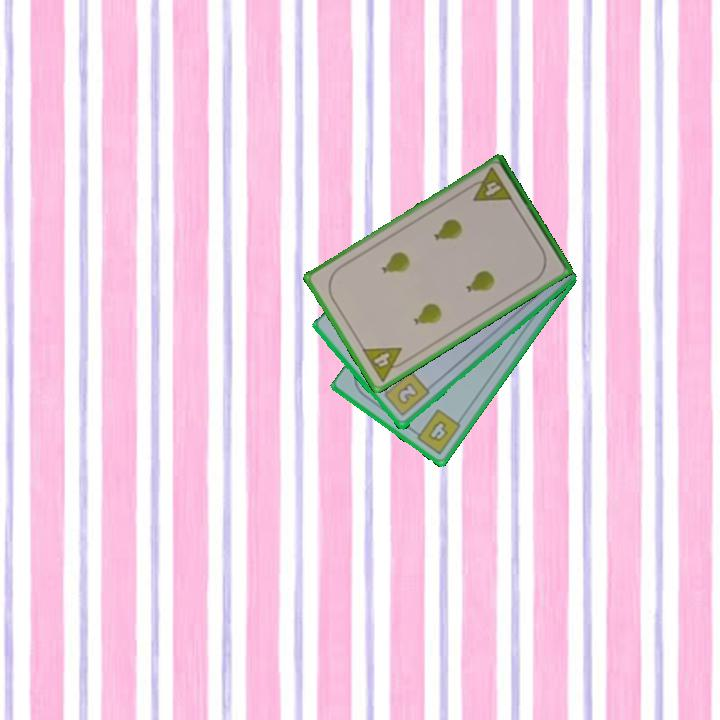2b: (378, 368, 432, 420)
4b: (409, 405, 464, 458)
4p: (358, 343, 412, 385), (464, 164, 516, 205)
